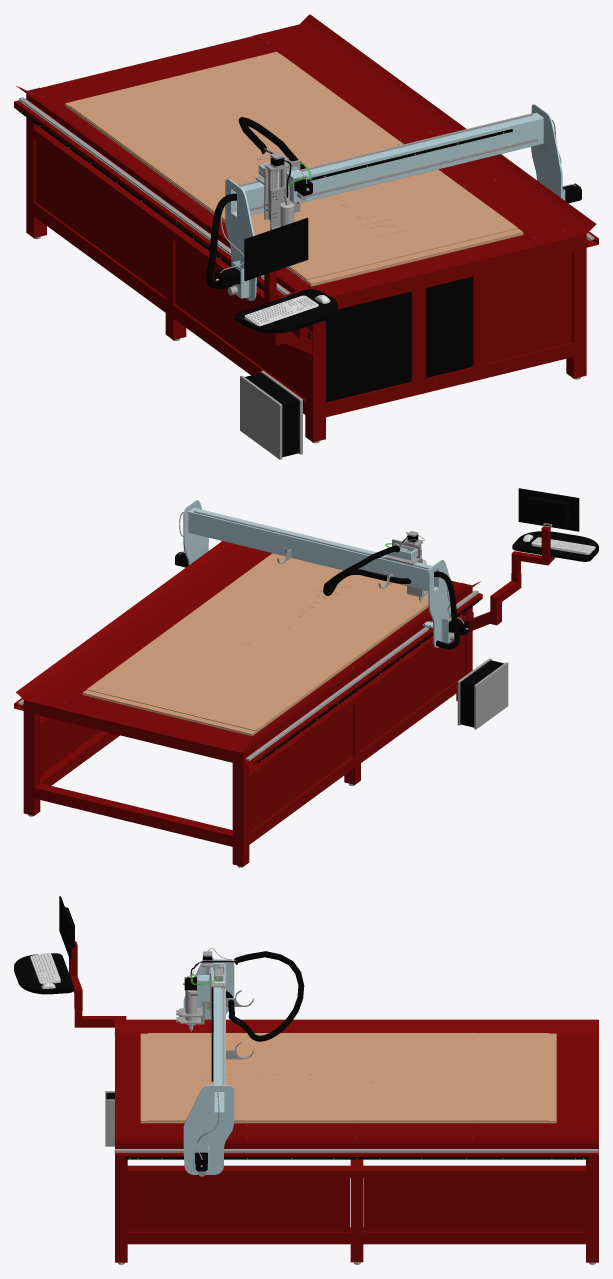
The model's file is CNC.fbx.
3 views of the same model, one above another, from view 1: azimuth 30°, elevation 25°; view 2: azimuth 150°, elevation 25°; view 3: azimuth 270°, elevation 25° (orthographic). The views are drawn at different scales.
Parts seen in each view (by area): view 1: polySurface750, polySurface758, polySurface764, polySurface818, polySurface597, polySurface708, polySurface710, polySurface596, Gabinete, polySurface707, polySurface749, polySurface589 (+11 smaller); view 2: polySurface750, polySurface758, polySurface764, polySurface818, polySurface597, polySurface596, Gabinete, polySurface589, polySurface711, polySurface704, polySurface749, RielYI (+8 smaller); view 3: polySurface750, polySurface758, polySurface764, polySurface711, polySurface712, polySurface818, polySurface732, polySurface749, RielYD, polySurface590, TuboGrande, polySurface713 (+5 smaller).
Part boxes in pixels (x1,y1,x2,y2): polySurface750: (70, 54, 517, 279); polySurface758: (26, 36, 586, 442); polySurface764: (16, 14, 596, 290); polySurface818: (225, 104, 562, 300); polySurface597: (35, 139, 165, 296); polySurface708: (487, 252, 572, 362); polySurface710: (326, 291, 410, 402); polySurface596: (175, 242, 305, 398); Gabinete: (240, 370, 302, 459); polySurface707: (426, 276, 472, 377); polySurface749: (65, 51, 523, 285); polySurface589: (244, 218, 308, 281); polySurface750: (86, 553, 428, 731); polySurface758: (23, 580, 472, 866); polySurface764: (16, 541, 480, 753); polySurface818: (183, 500, 450, 647); polySurface597: (249, 706, 353, 831); polySurface596: (361, 634, 465, 750); Gabinete: (457, 658, 508, 729); polySurface589: (518, 488, 579, 531); polySurface711: (40, 720, 100, 774); polySurface704: (243, 591, 482, 766); polySurface749: (82, 605, 428, 735); RielYI: (245, 590, 478, 760); polySurface750: (148, 1033, 548, 1120); polySurface758: (115, 1036, 598, 1262); polySurface764: (115, 1019, 598, 1142); polySurface711: (363, 1178, 585, 1231); polySurface712: (127, 1178, 349, 1231); polySurface818: (183, 959, 234, 1174); polySurface732: (115, 1149, 598, 1159); polySurface749: (140, 1033, 556, 1122); RielYD: (114, 1149, 598, 1152); polySurface590: (14, 953, 73, 994); TuboGrande: (229, 951, 304, 1041); polySurface713: (125, 1157, 588, 1159).
Bounding box in the file's own units: 252 × 142 × 350.
